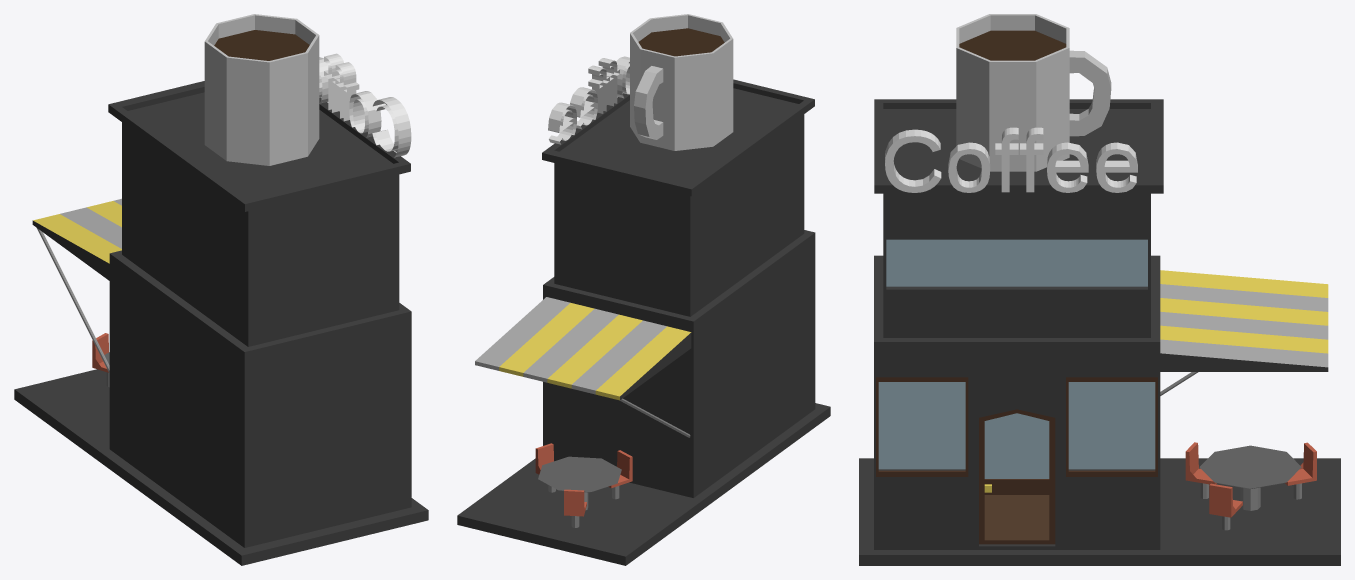
Rendered from coffee_shop.glb.
The picture shows the model from 3 angles, left to right: view 1: azimuth 30°, elevation 25°; view 2: azimuth 150°, elevation 25°; view 3: azimuth 270°, elevation 25°; orthographic projection. The views are drawn at different scales.
Parts seen in each view (by area): view 1: coffe-mp_1; view 2: coffe-mp_1; view 3: coffe-mp_1.
Part boxes in pixels (x1=…): coffe-mp_1: x1=14, y1=14, x2=428, y2=565; coffe-mp_1: x1=457, y1=14, x2=830, y2=565; coffe-mp_1: x1=859, y1=14, x2=1340, y2=565.
Bounding box in the file's own units: 2.97 × 6.87 × 6.26.
1 material, 1 textured.
